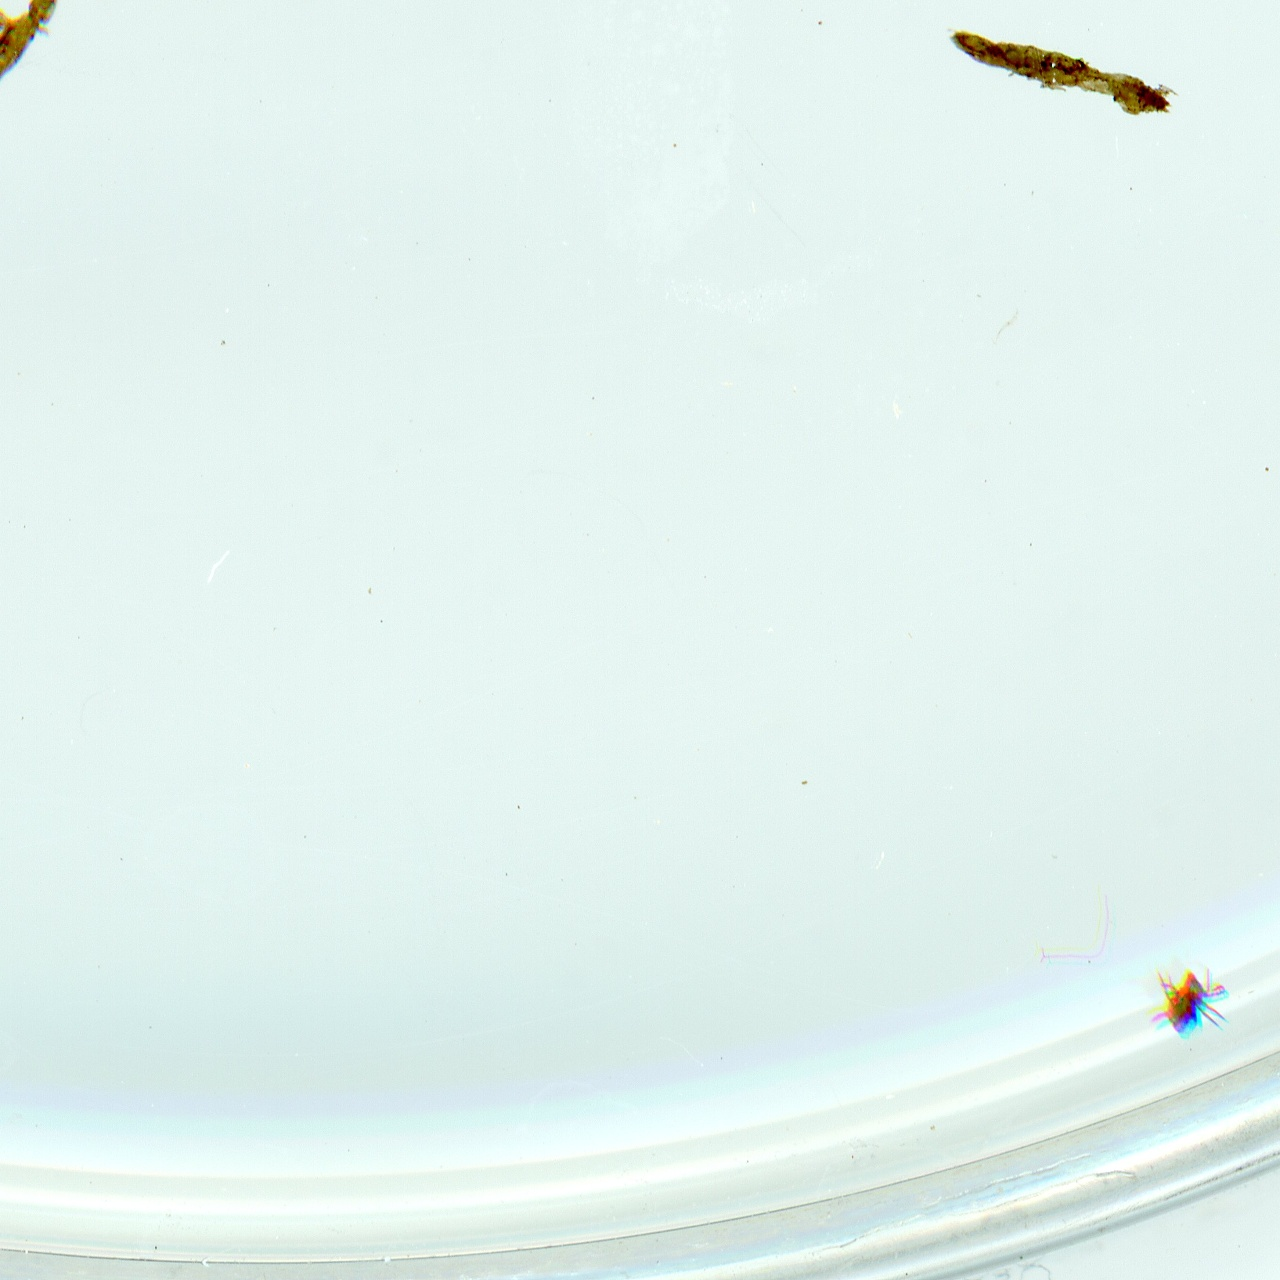arthropod: (1146, 963, 1231, 1041), (0, 0, 15, 85)
